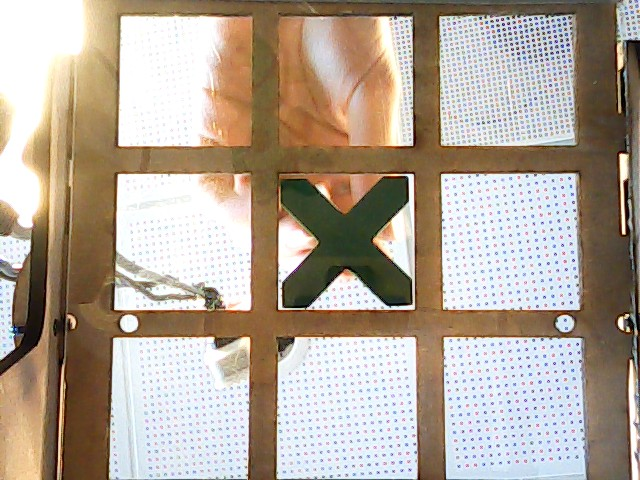X: (279, 175, 413, 309)
